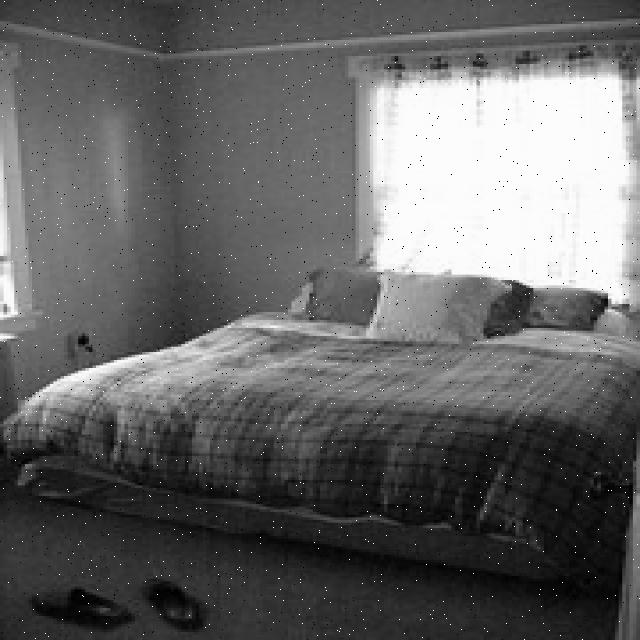bed: (47, 266, 640, 531)
